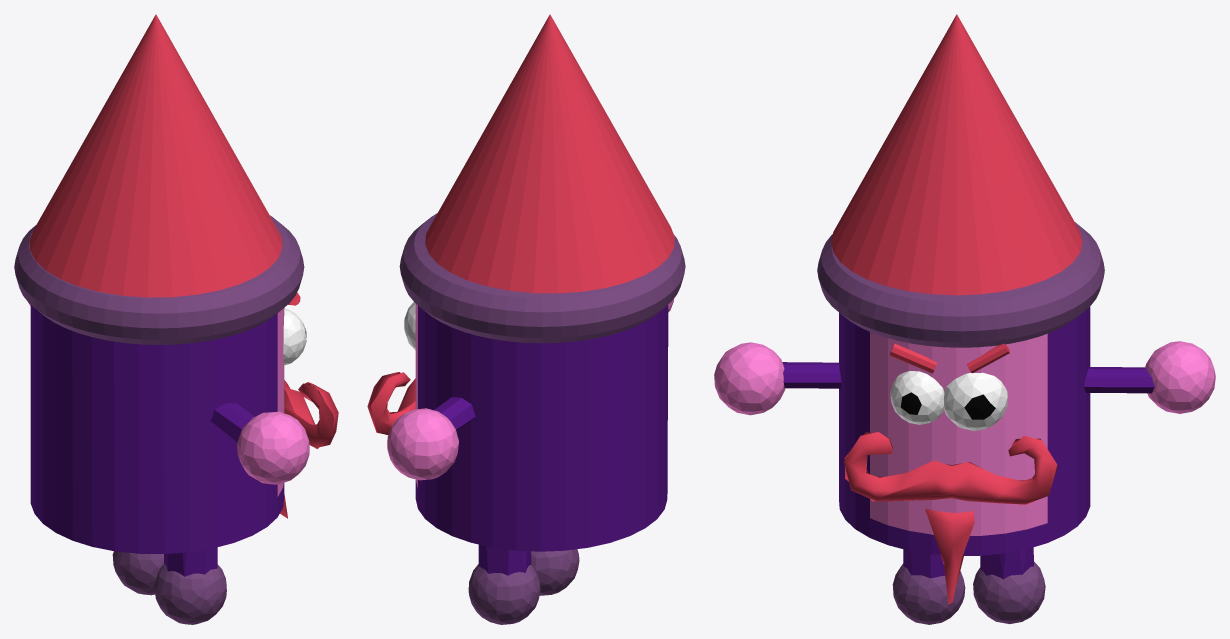
File: hookGnom.fbx
3 renders of one model, left to right at view 1: azimuth 30°, elevation 25°; view 2: azimuth 150°, elevation 25°; view 3: azimuth 270°, elevation 25°, orthographic.
Parts seen in each view (by area): view 1: Цилиндр, Конус, Тор.001, Сфера, Сфера.002, node_id30, Сфера.003, Цилиндр.002, Сфера.004, Цилиндр.001; view 2: Цилиндр, Конус, Тор.001, Сфера.001, Сфера.003, node_id30, Сфера.002, Цилиндр.003, Цилиндр.006; view 3: Конус, Цилиндр, Тор.001, node_id30, Сфера, Сфера.001, Сфера.003, Сфера.005, Сфера.002, Сфера.004, Цилиндр.006, Цилиндр.001 (+2 smaller).
Boxes of the visible parts, bbox=[...] form: Цилиндр: bbox=[30, 305, 284, 553]; Конус: bbox=[29, 14, 282, 297]; Тор.001: bbox=[14, 215, 304, 344]; Сфера: bbox=[237, 411, 309, 484]; Сфера.002: bbox=[154, 564, 226, 624]; node_id30: bbox=[280, 380, 338, 518]; Сфера.003: bbox=[112, 551, 163, 595]; Цилиндр.002: bbox=[164, 547, 217, 576]; Сфера.004: bbox=[283, 308, 306, 365]; Цилиндр.001: bbox=[210, 403, 254, 442]; Цилиндр: bbox=[415, 303, 668, 551]; Конус: bbox=[425, 14, 674, 293]; Тор.001: bbox=[399, 213, 685, 343]; Сфера.001: bbox=[387, 408, 458, 480]; Сфера.003: bbox=[468, 564, 540, 624]; node_id30: bbox=[367, 372, 415, 435]; Сфера.002: bbox=[531, 549, 579, 595]; Цилиндр.003: bbox=[478, 544, 531, 575]; Цилиндр.006: bbox=[434, 397, 475, 431]; Конус: bbox=[831, 14, 1082, 295]; Цилиндр: bbox=[839, 306, 1090, 555]; Тор.001: bbox=[817, 222, 1104, 347]; node_id30: bbox=[844, 431, 1057, 604]; Сфера: bbox=[714, 342, 785, 415]; Сфера.001: bbox=[1145, 341, 1215, 413]; Сфера.003: bbox=[973, 561, 1045, 624]; Сфера.005: bbox=[943, 372, 1007, 430]; Сфера.002: bbox=[892, 563, 965, 624]; Сфера.004: bbox=[890, 371, 944, 424]; Цилиндр.006: bbox=[1084, 367, 1154, 393]; Цилиндр.001: bbox=[782, 362, 841, 388].
Bounding box in the file's own units: 235 × 524 × 399.
